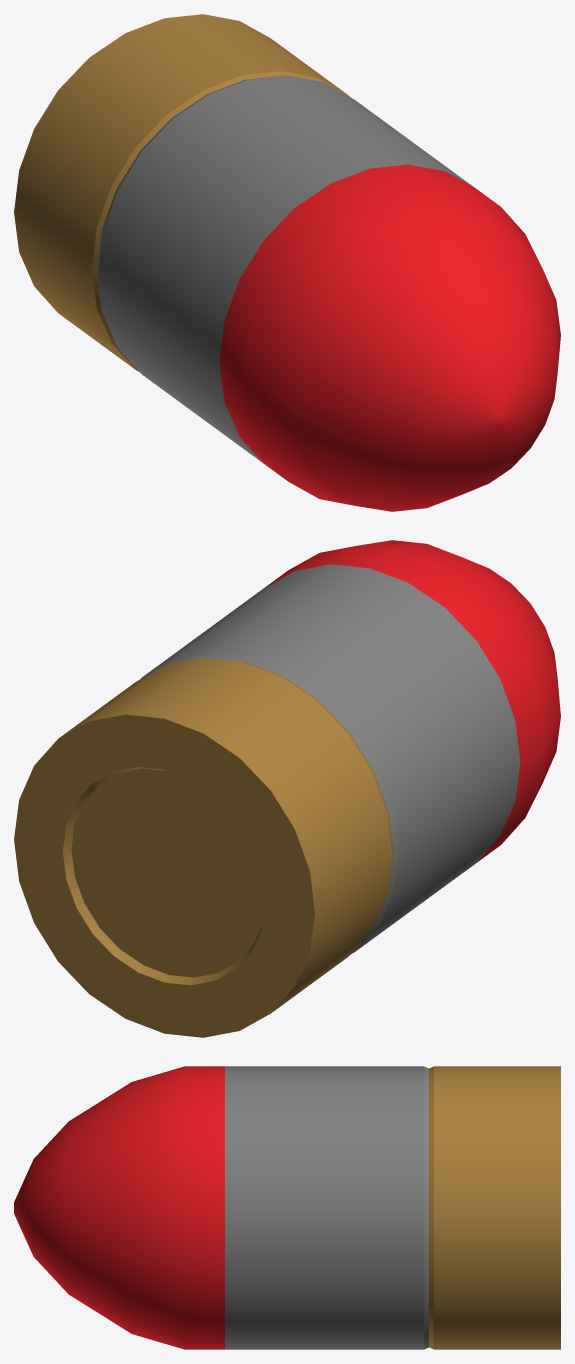
The model's file is bullet.fbx.
3 renders of one model, top to bottom at view 1: azimuth 30°, elevation 25°; view 2: azimuth 150°, elevation 25°; view 3: azimuth 270°, elevation 25°, orthographic. The views are drawn at different scales.
Visible parts, largest first — view 1: Bullet; view 2: Bullet; view 3: Bullet.
Boxes of the visible parts, x1,y1,x2,y2 form: Bullet: (14,14,560,511); Bullet: (14,540,560,1037); Bullet: (14,1066,560,1349).
Bounding box in the file's own units: 9.73 × 9.73 × 18.73.
